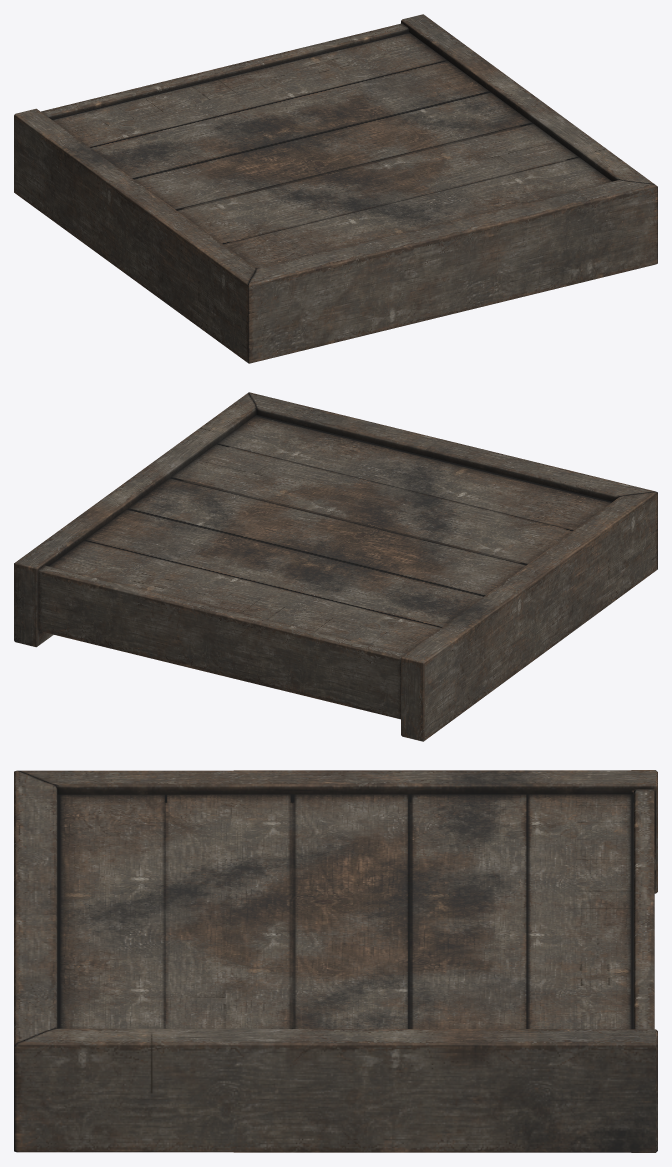
The model's file is StairPlatform_mdl.fbx.
3 renders of one model, top to bottom at view 1: azimuth 30°, elevation 25°; view 2: azimuth 150°, elevation 25°; view 3: azimuth 270°, elevation 25°, orthographic. The views are drawn at different scales.
Visible parts, largest first — view 1: StairPlatform_LOD0; view 2: StairPlatform_LOD0; view 3: StairPlatform_LOD0.
Part boxes in pixels (x1,y1,x2,y2): StairPlatform_LOD0: (14, 14, 657, 363); StairPlatform_LOD0: (14, 392, 657, 741); StairPlatform_LOD0: (14, 770, 657, 1152).
Size of the model in its own units: 212 by 39.39 by 210.
Materials: 1 (1 with a texture image).
